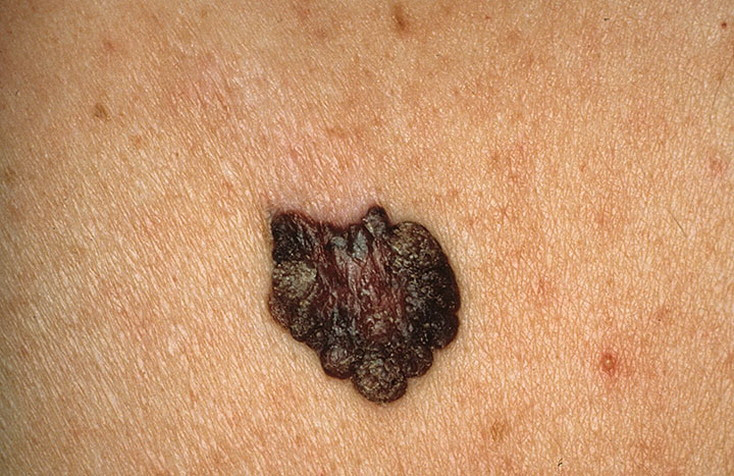Melanoma: (267, 205, 463, 403)
